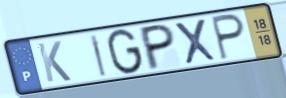G: (105, 28, 145, 76)
I: (88, 33, 109, 79)
K: (35, 40, 74, 85)
P: (209, 11, 247, 62), (139, 22, 176, 73)
X: (172, 16, 220, 67)
